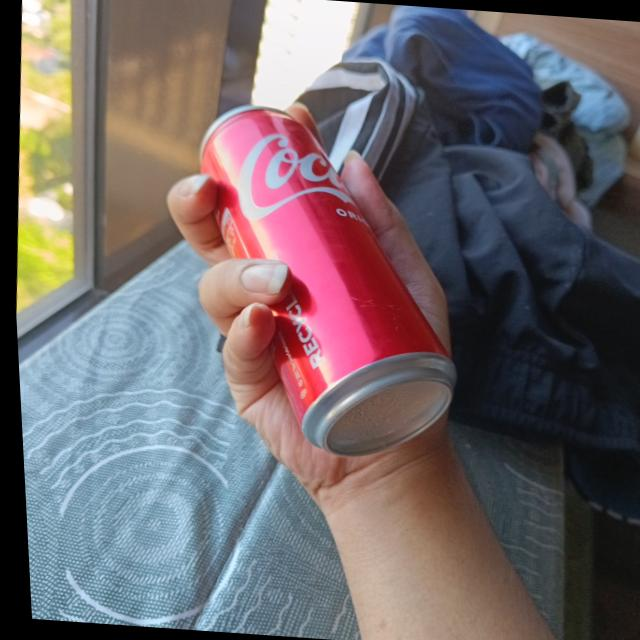coke: (181, 103, 474, 464)
